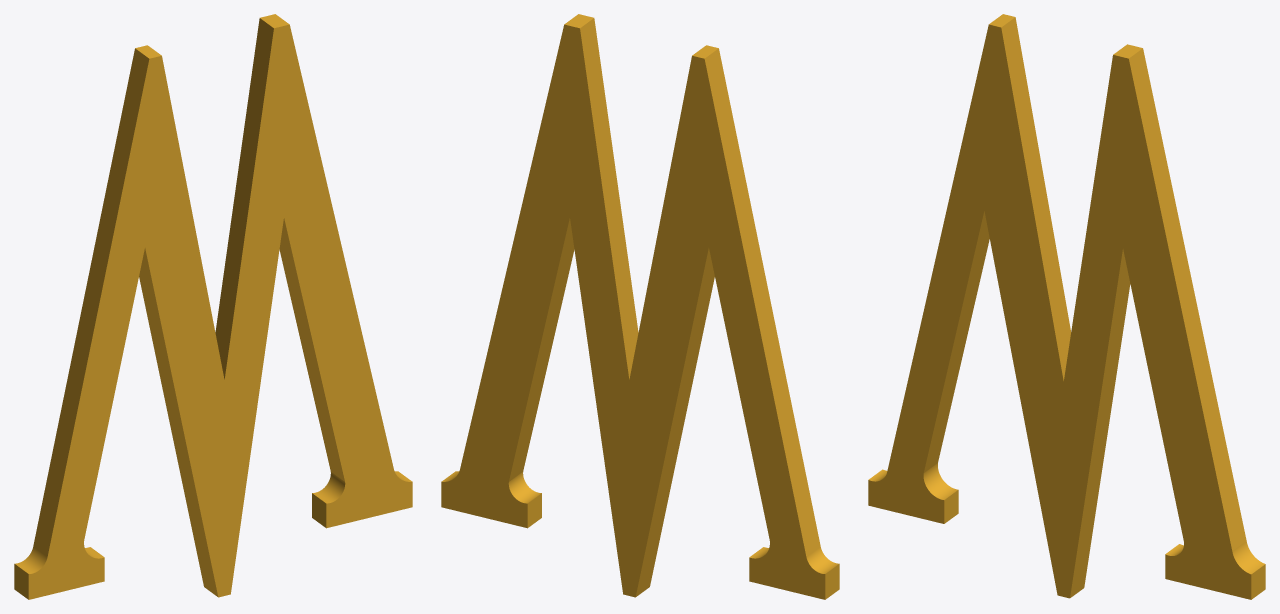
3 renders of one model, left to right at view 1: azimuth 30°, elevation 25°; view 2: azimuth 150°, elevation 25°; view 3: azimuth 330°, elevation 25°, orthographic.
Visible parts, largest first — view 1: UW; view 2: UW; view 3: UW.
Part boxes in pixels (x1,y1,x2,y2): UW: (14, 14, 412, 599); UW: (441, 14, 839, 599); UW: (868, 14, 1265, 599).
Bounding box in the file's own units: 0.1544 × 0.2136 × 0.01.
